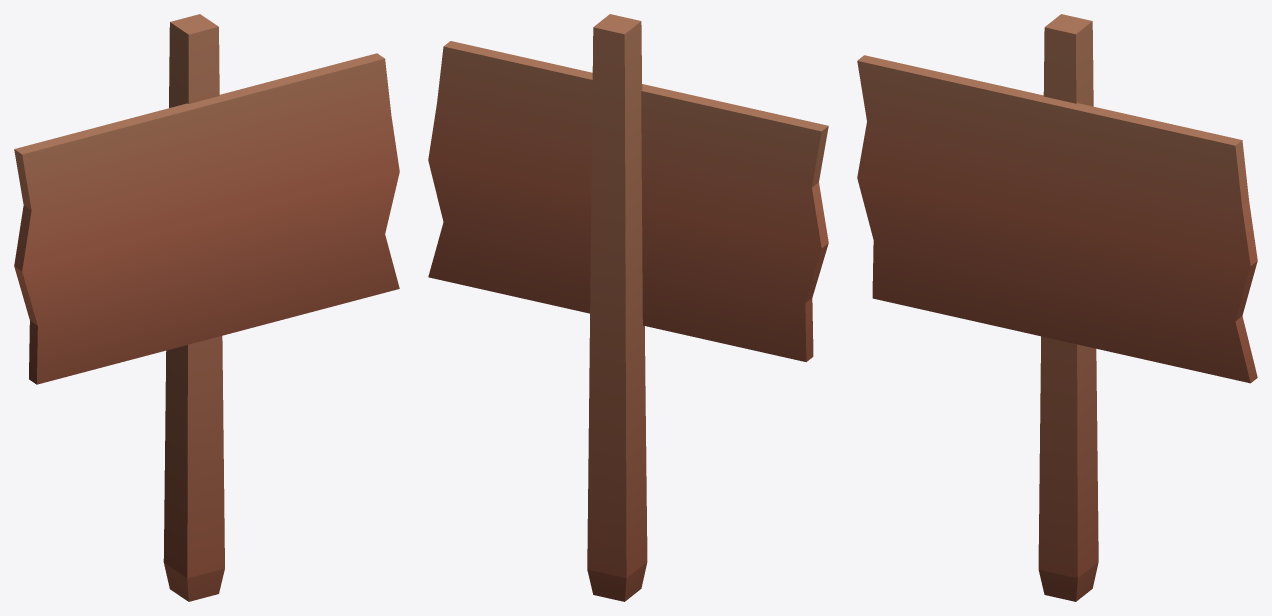
File: farmpack2023sign01.fbx
The picture shows the model from 3 angles, left to right: view 1: azimuth 30°, elevation 25°; view 2: azimuth 150°, elevation 25°; view 3: azimuth 330°, elevation 25°; orthographic projection.
Parts seen in each view (by area): view 1: Plane.012; view 2: Plane.012; view 3: Plane.012.
Part boxes in pixels (bbox=[...]): Plane.012: bbox=[14, 14, 399, 601]; Plane.012: bbox=[428, 14, 828, 601]; Plane.012: bbox=[857, 14, 1257, 601].
Bounding box in the file's own units: 142 × 199 × 19.71.
